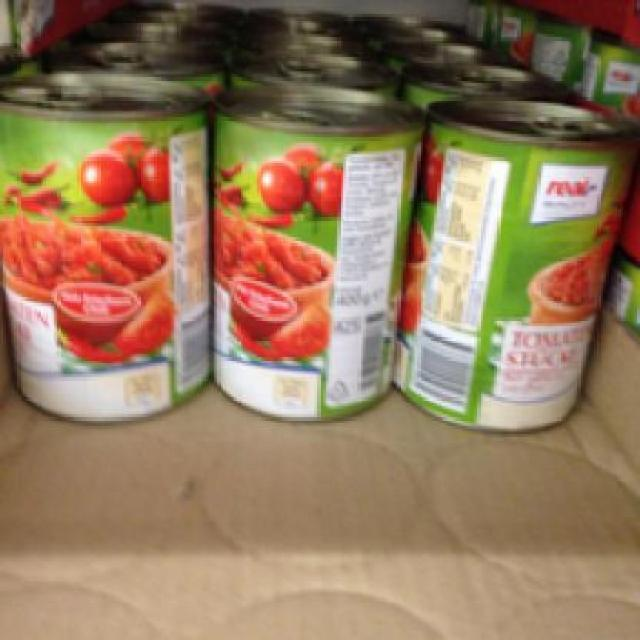Tomato Sauce: (388, 94, 638, 434), (0, 66, 209, 423), (206, 83, 426, 420)
